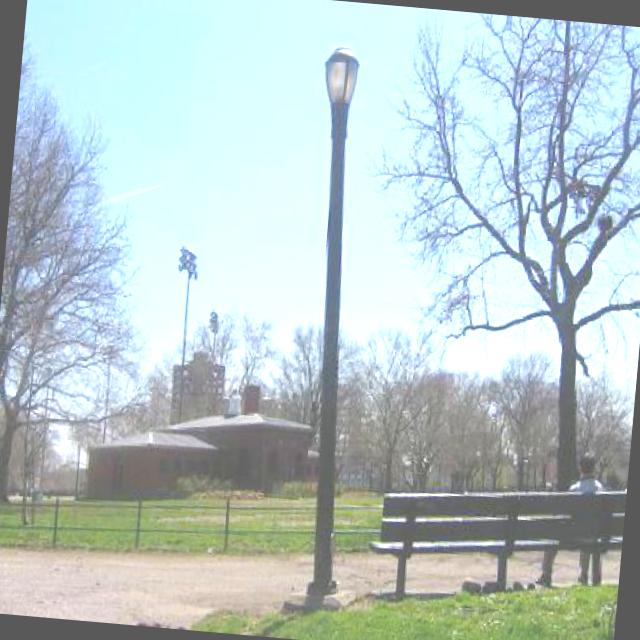Person: (534, 542, 594, 588), (570, 446, 611, 492)
